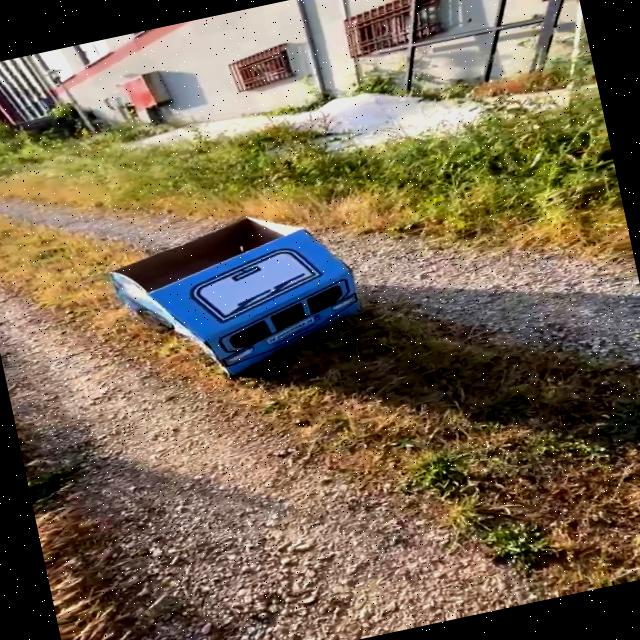blue_car: (74, 161, 406, 417)
